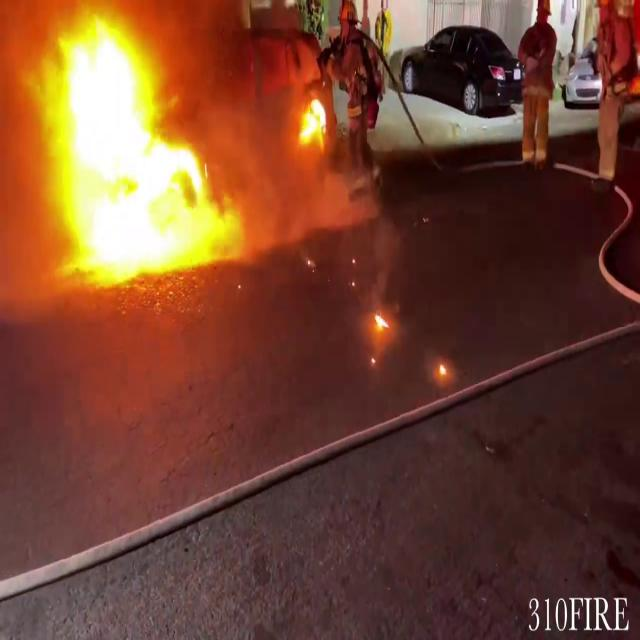Fire: (38, 4, 226, 287), (296, 91, 330, 152)
